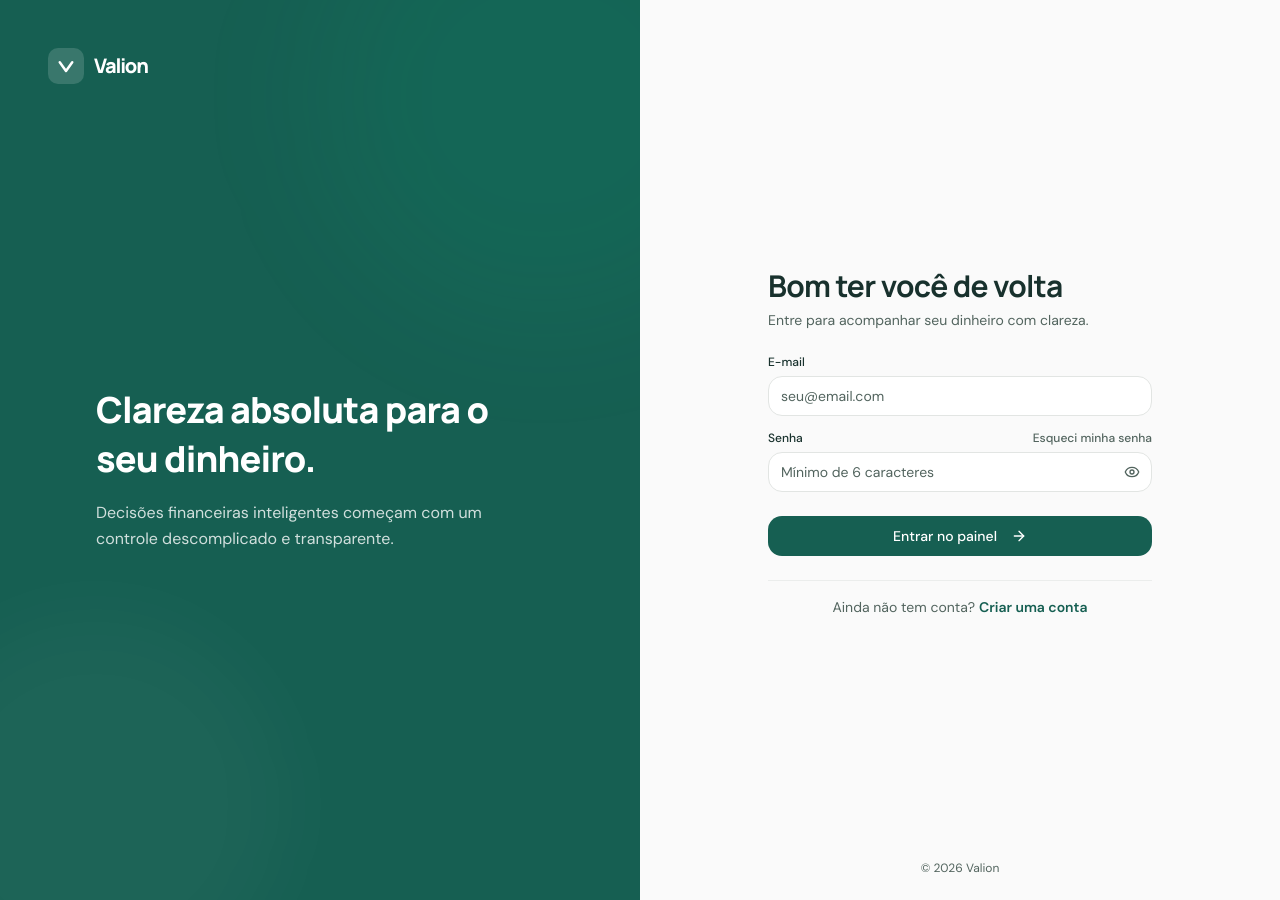
Test case: AuthScreen › shows generic login errors and confirmed-email guidance
In the field labelled "E-mail": {"x": 960, "y": 396} [768, 376, 1152, 416], type "ana@example.com"
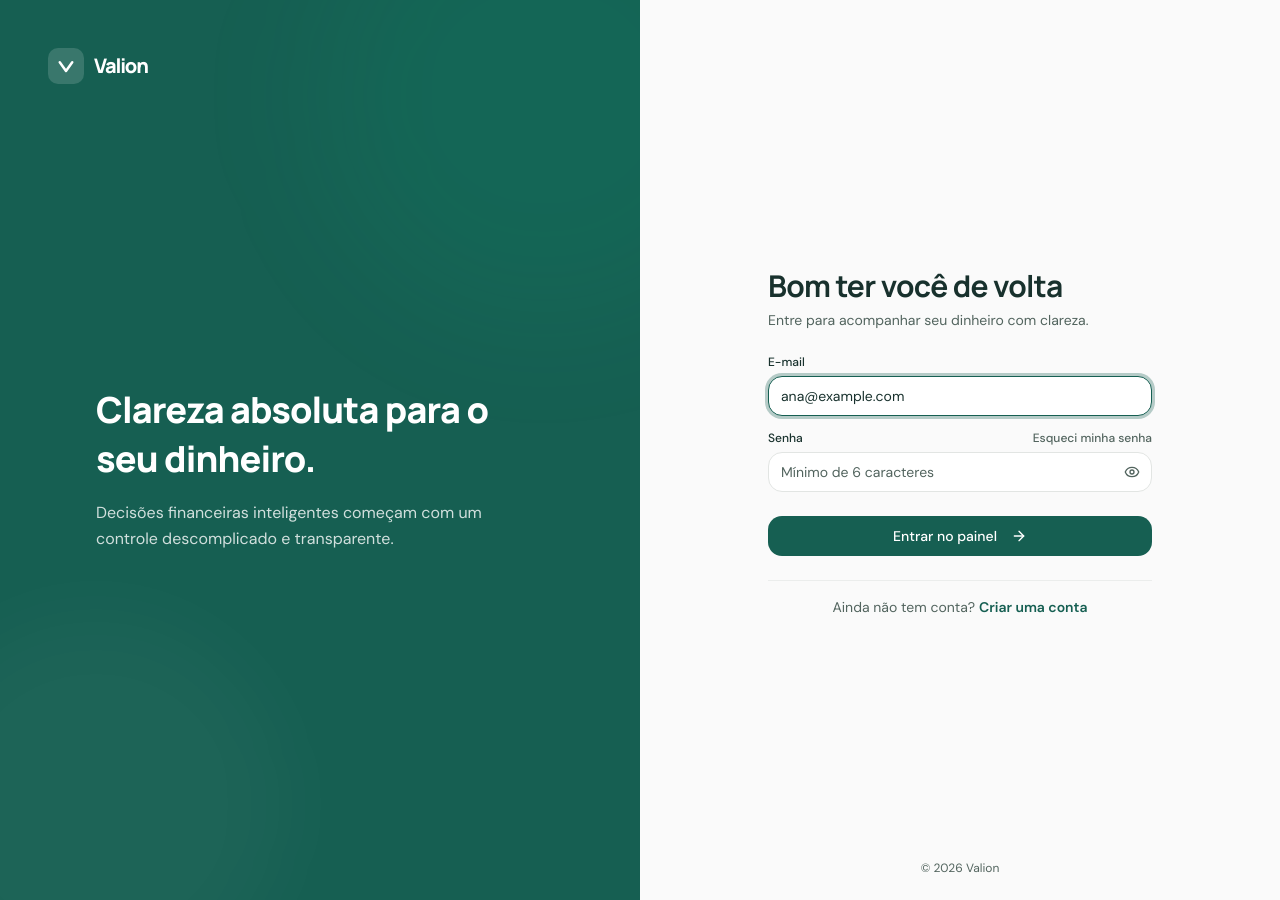
In the password field labelled "Senha": {"x": 960, "y": 472} [768, 452, 1152, 492], type "123456"
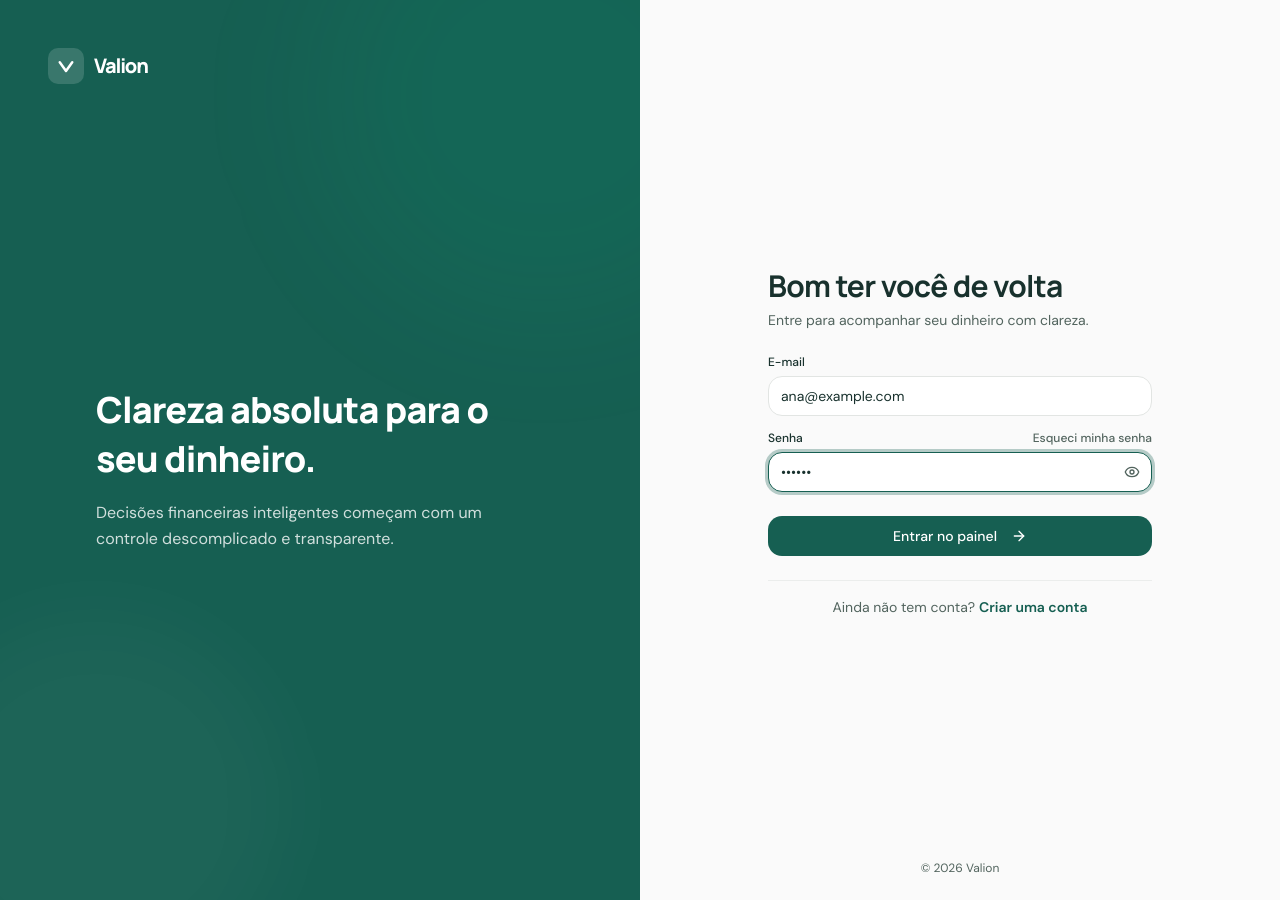
Click the button "Entrar no painel": {"x": 960, "y": 536} [768, 516, 1152, 556]
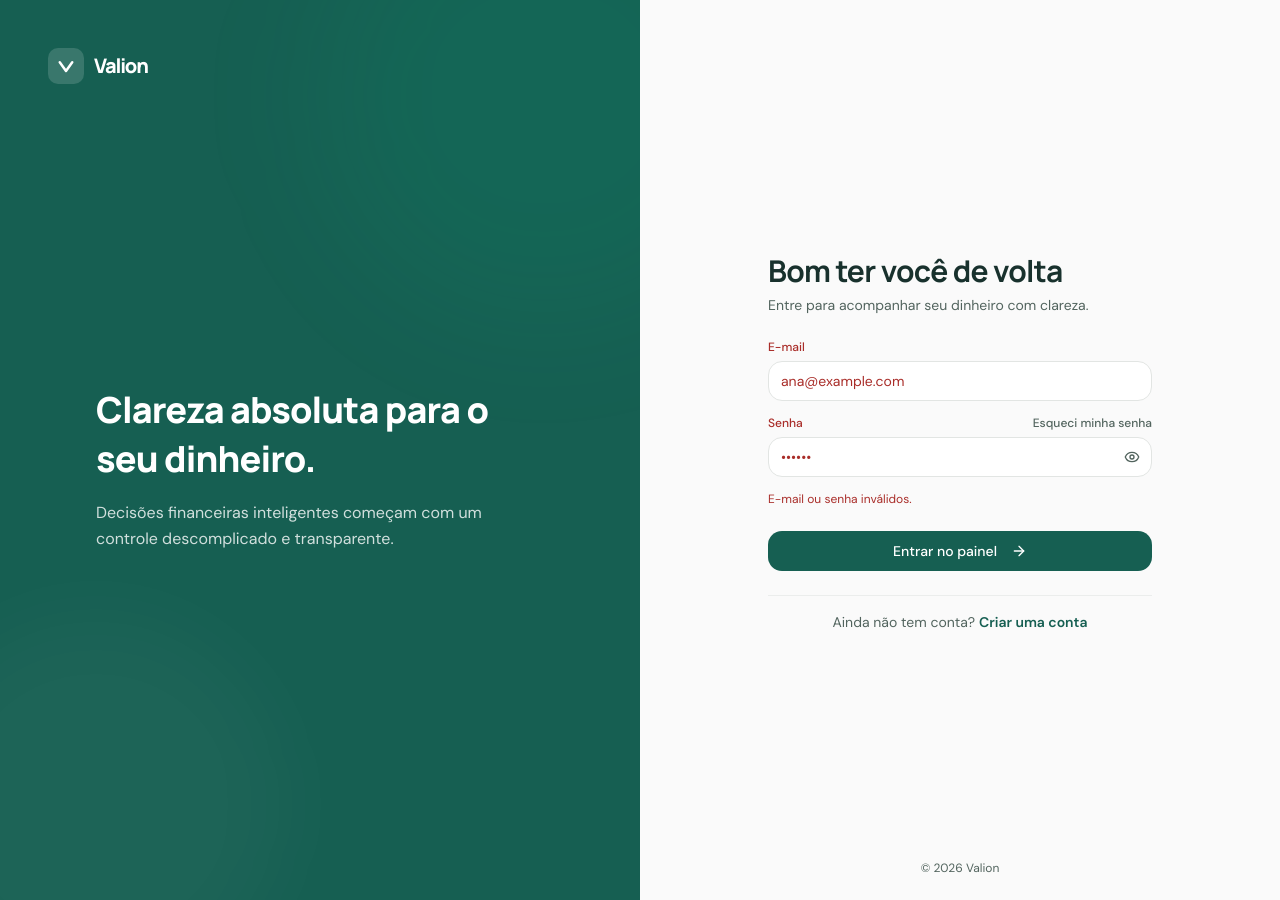
expect the text "E-mail ou senha inválidos." is shown: met, box [768, 490, 912, 506]
Click the button "Entrar no painel": {"x": 960, "y": 550} [768, 530, 1152, 570]
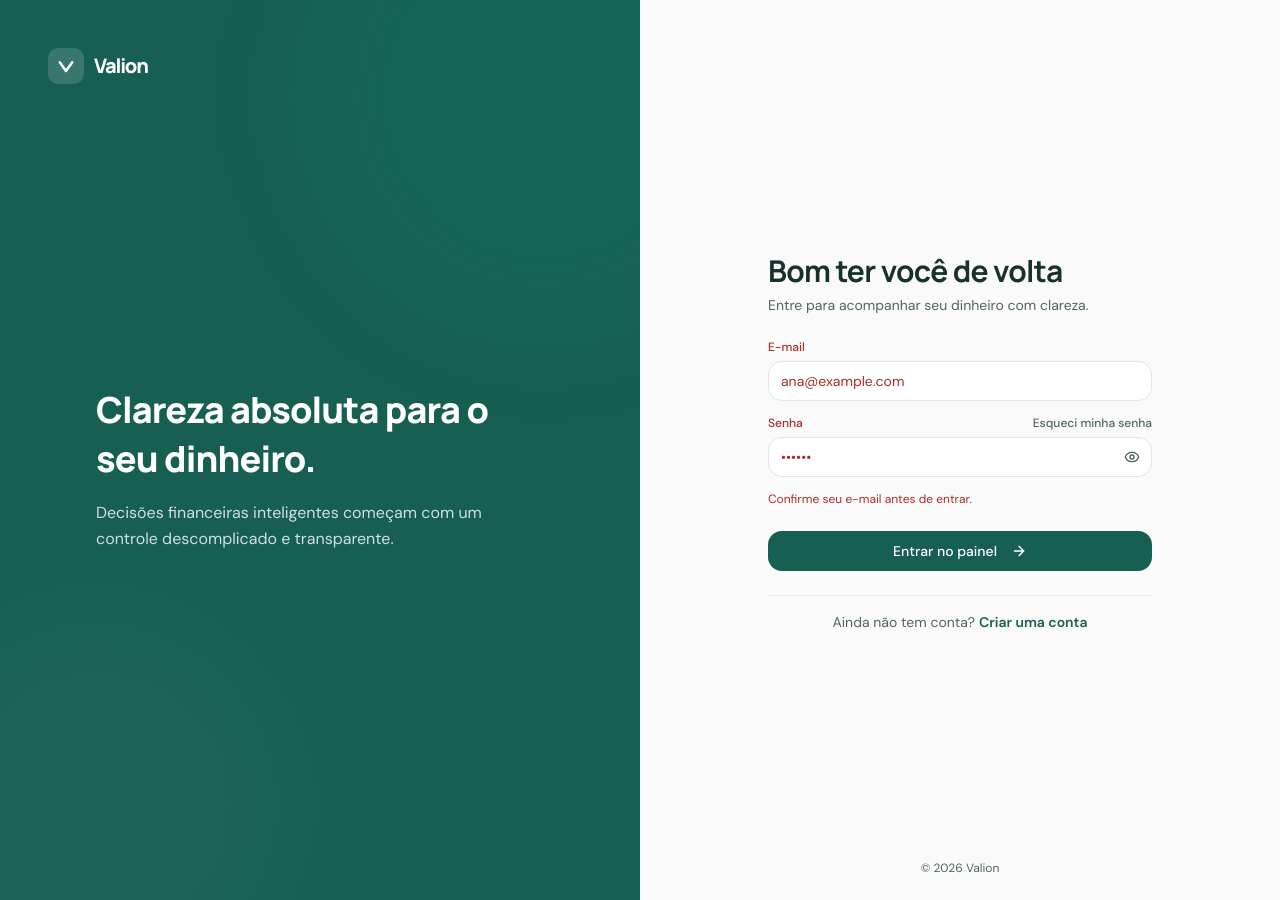
expect the text "Confirme seu e-mail antes de entrar." is shown: met, box [768, 490, 972, 506]
